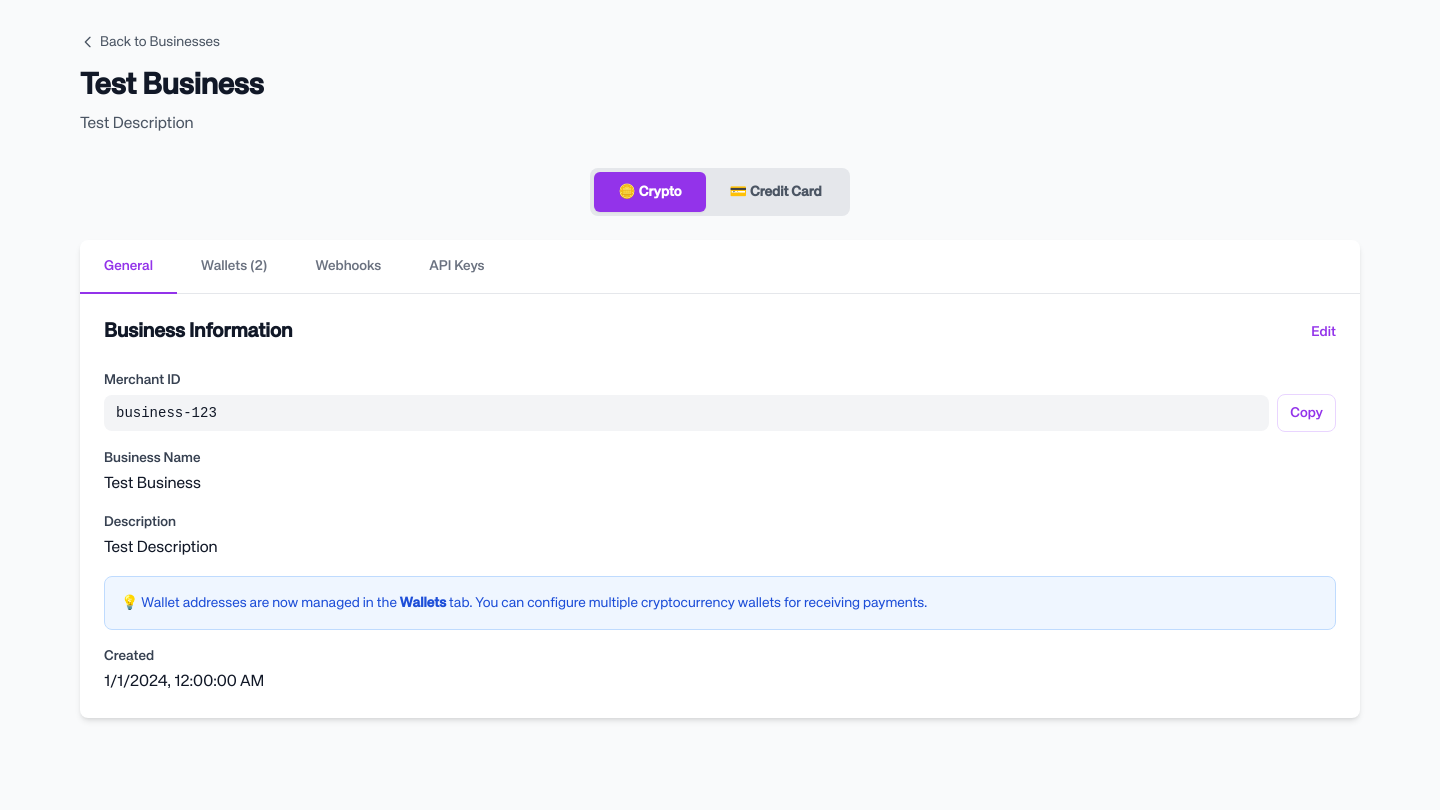
BusinessDetailPage › Copy to Clipboard › should copy wallet address to clipboard from Wallets tab
The image size is (1440, 810).
Expected: the heading "Test Business" is shown, [80,71,264,101]
# Switch to Wallets tab
Click the button "Wallets (2)" at (234, 267), box [177,240,292,294]
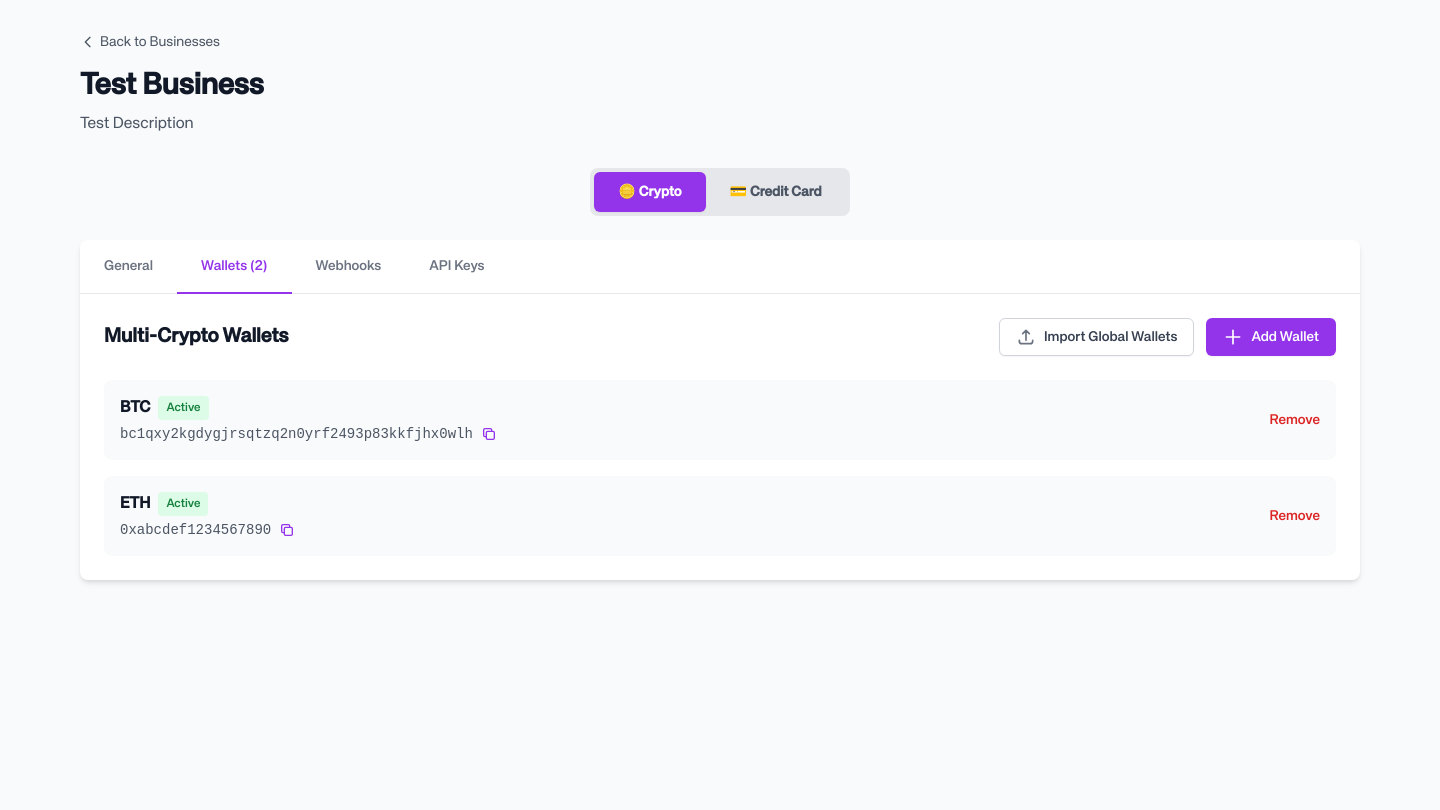
Result: the heading "Multi-Crypto Wallets" is shown at [104,323,288,351]
Click the 1st button titled "Copy to clipboard" at (489, 434), box [481,426,497,442]
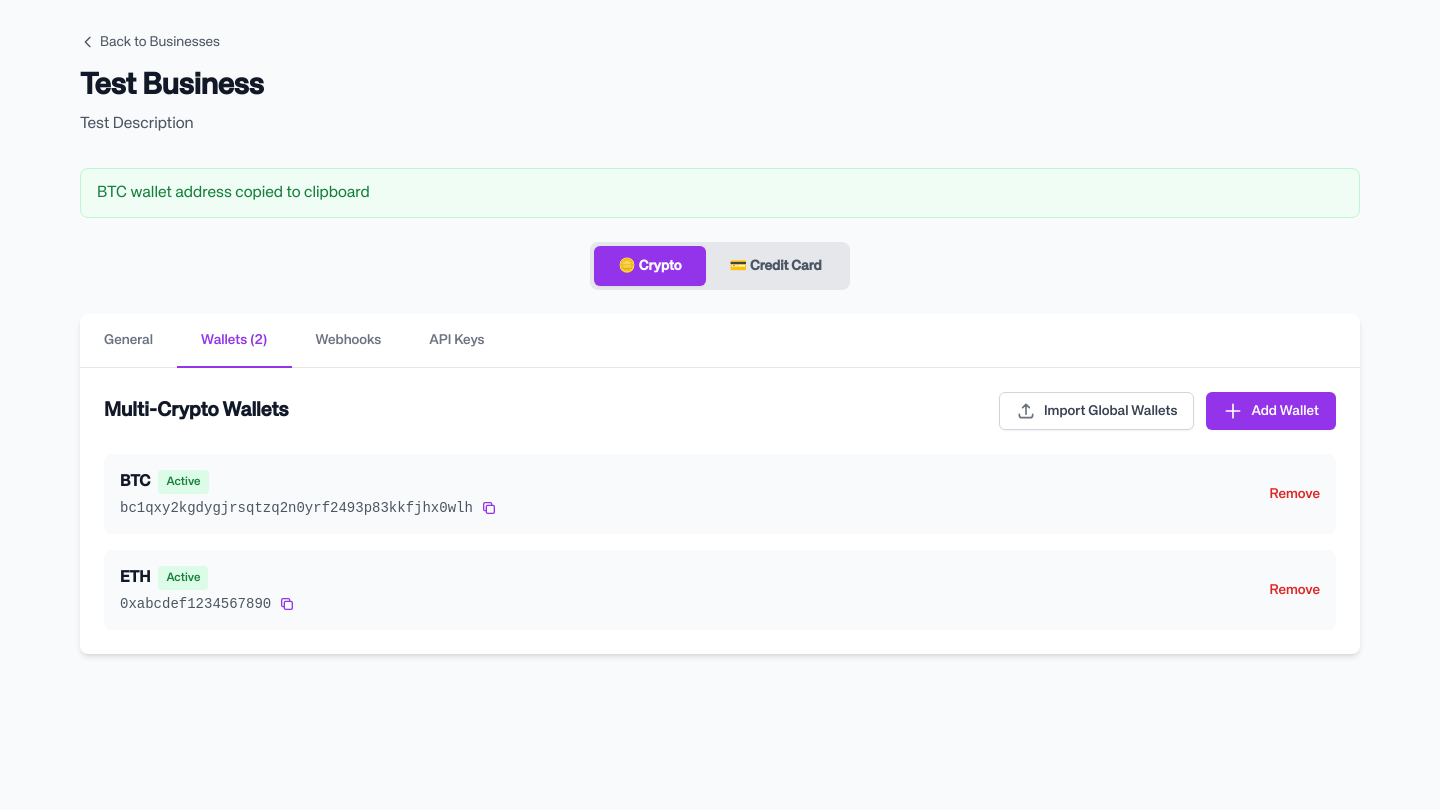
Result: the text "BTC wallet address copied to clipboard" is shown at [80,168,1360,218]
